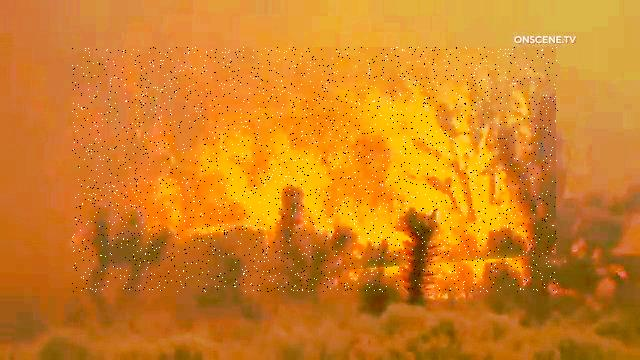fire: (73, 48, 559, 293)
